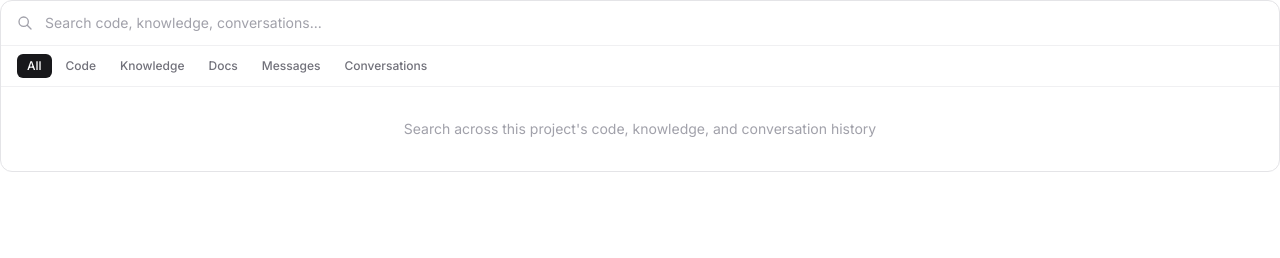
Scenario: SearchPanel › displays knowledge results with category badge
The image size is (1280, 258).
Type "auth" into the field with placeholder "Search code, knowledge, conversations...".
click(654, 23); type("auth")  # box [45, 13, 1263, 33]
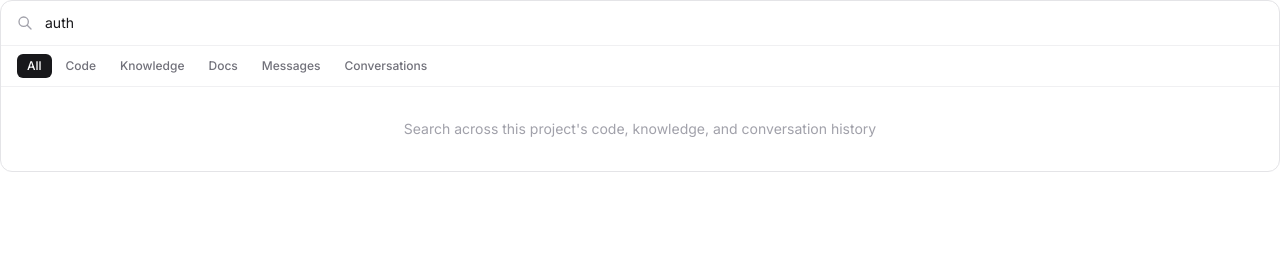
Press Enter in the field with placeholder "Search code, knowledge, conversations...", box [45, 13, 1263, 33]
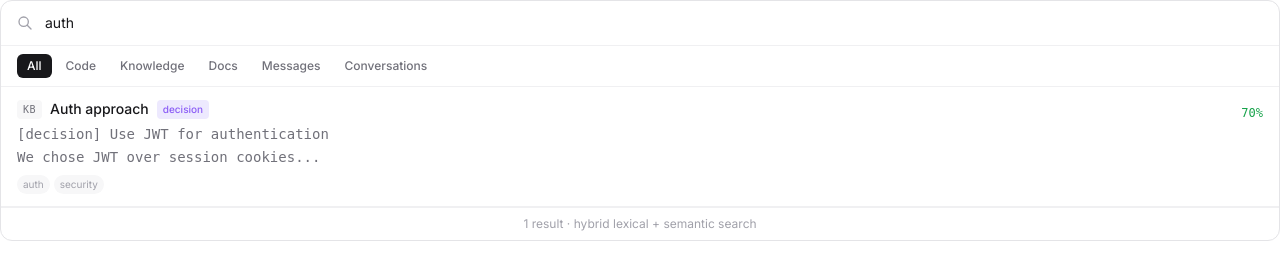
Expected: the text "Auth approach" is shown, [50, 99, 149, 119]
Expected: the text "decision" is shown, [157, 100, 209, 118]
Expected: the text "auth" is shown, [17, 174, 50, 194]
